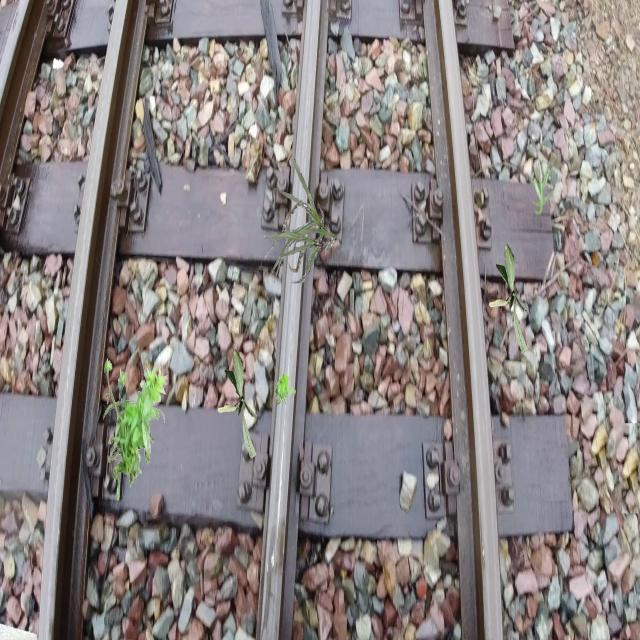Plant: (103, 357, 168, 500), (264, 159, 337, 284), (218, 349, 258, 459), (489, 244, 529, 354), (529, 159, 556, 216), (275, 372, 296, 405)
